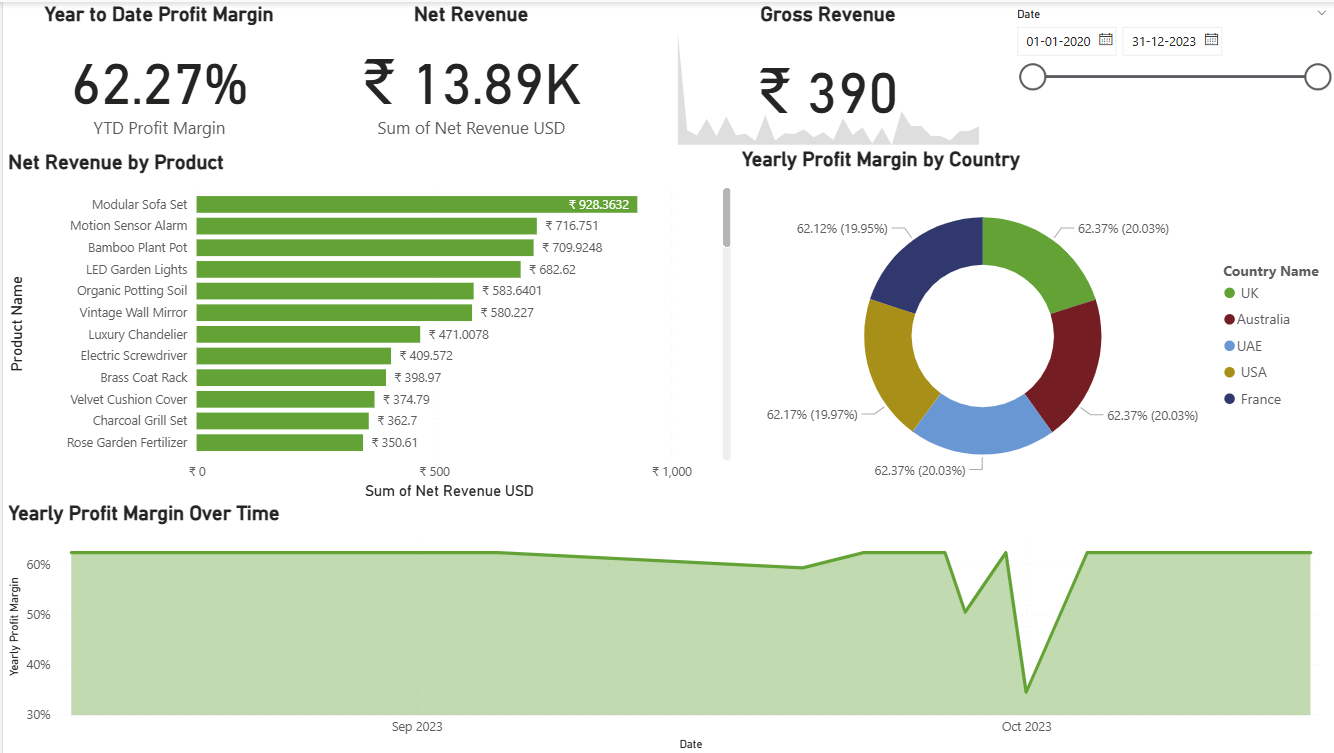

The page's visual inventory and layout, read from the dashboard file:
{"tool":"powerbi","page":{"name":"Profit overview","canvas":[1280,720],"ordinal":1},"visuals":[{"type":"clusteredBarChart","title":"Net Revenue by Product","fields":{"Category":["Sales in USD.Product Name"],"Y":["Sum(Sales in USD.Net Revenue USD)"]},"box":[0,141.6,701.6,338.2],"z":0},{"type":"donutChart","title":"Yearly Profit Margin by Country","fields":{"Category":["Sales in USD.Country Name"],"Y":["Sales in USD.Yearly Profit Margin"]},"box":[701.6,140,578.9,338.2],"z":1000},{"type":"areaChart","title":"Yearly Profit Margin Over Time","fields":{"Category":["CalendarTable.Date"],"Y":["Sales in USD.Yearly Profit Margin"]},"box":[0,478.2,1280.5,242.3],"z":2000},{"type":"card","title":"Year to Date Profit Margin","fields":{"Values":["Sales in USD.YTD Profit Margin"]},"box":[0,0,298.9,141.6],"z":3000},{"type":"card","title":" Net Revenue","fields":{"Values":["Sum(Sales in USD.Net Revenue USD)"]},"box":[298.9,0,298.9,141.6],"z":4000},{"type":"kpi","title":"Gross Revenue","fields":{"Indicator":["Sum(Sales in USD.Gross Revenue)"],"TrendLine":["CalendarTable.Date"]},"box":[640.3,0,298.9,141.6],"z":5000},{"type":"slicer","fields":{"Values":["CalendarTable.Date"]},"box":[958,0,322.5,140],"z":6000}]}

Visuals, with their boxes in screenshot pixels (x1, y1, x2, y2), scaled from the page's 1280x720 canvas onto the 1334x753 screenshot:
"Net Revenue by Product" clusteredBarChart: (0,148,731,502)
"Yearly Profit Margin by Country" donutChart: (731,146,1333,500)
"Yearly Profit Margin Over Time" areaChart: (0,500,1333,752)
"Year to Date Profit Margin" card: (0,0,312,148)
" Net Revenue" card: (312,0,623,148)
"Gross Revenue" kpi: (667,0,979,148)
slicer - CalendarTable.Date: (998,0,1333,146)
